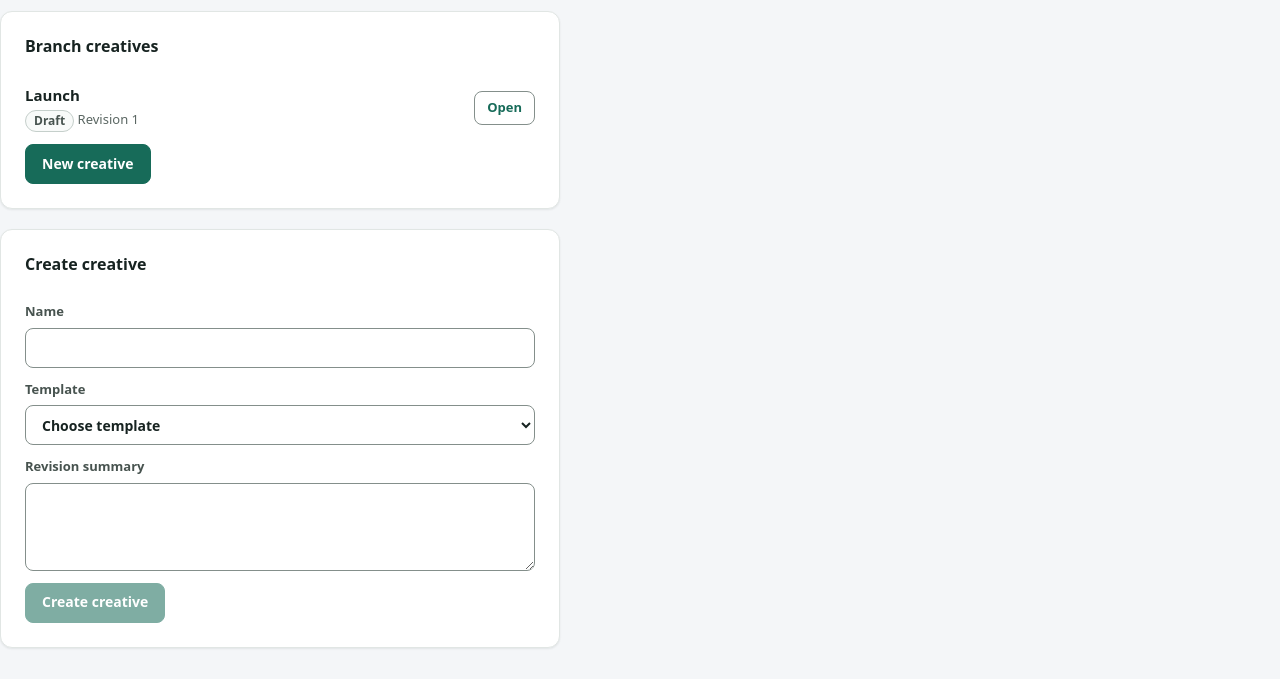
Test: CreativeWorkspace › saves edits as a new revision and exposes prior values read-only
This screenshot has width=1280, height=679.
Click the button "Open" at [505, 108], box left=474, top=91, right=535, bottom=125
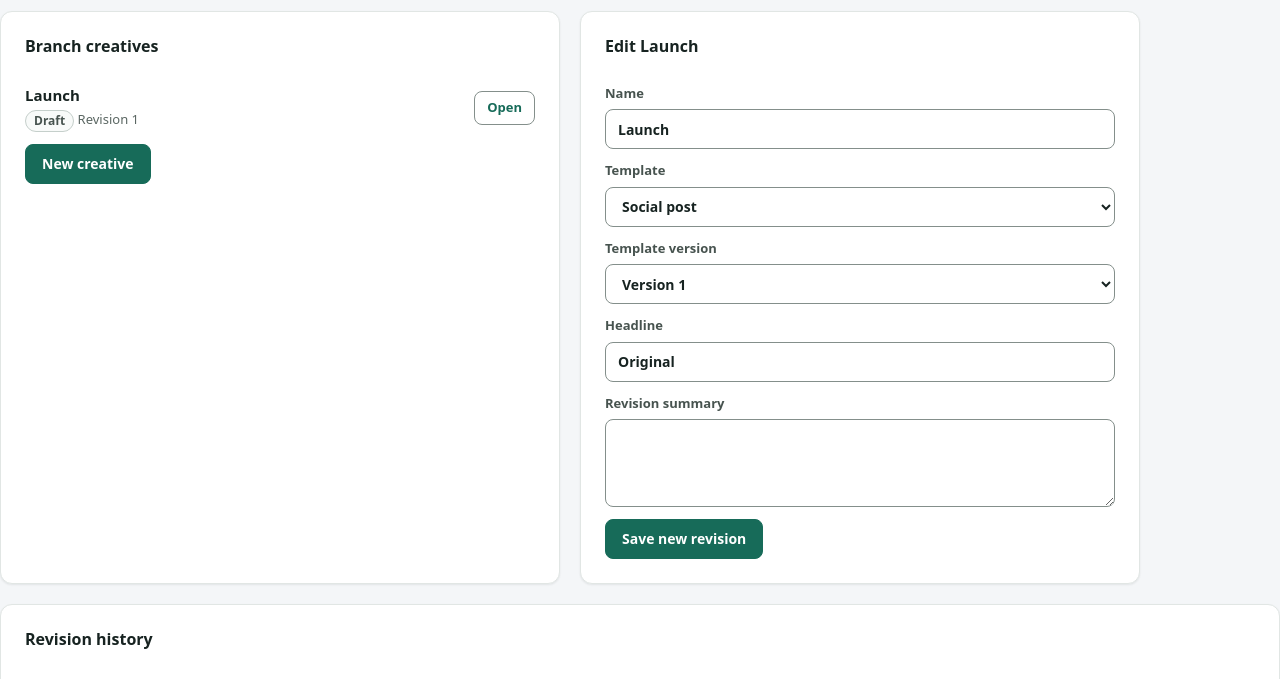
Replace the text in the field labelled "Headline" with "Revised" at [860, 362], box left=605, top=342, right=1115, bottom=382
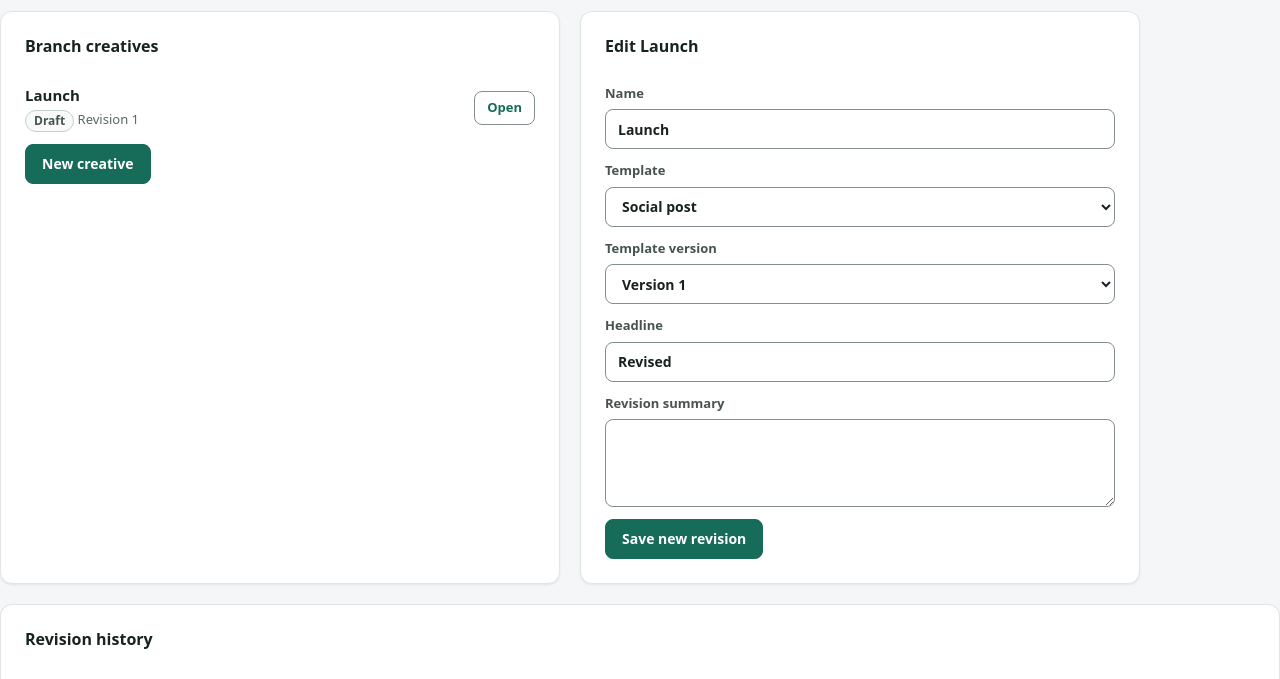
Click the button "Save new revision" at [684, 539], box left=605, top=519, right=763, bottom=559
(page scrolled)
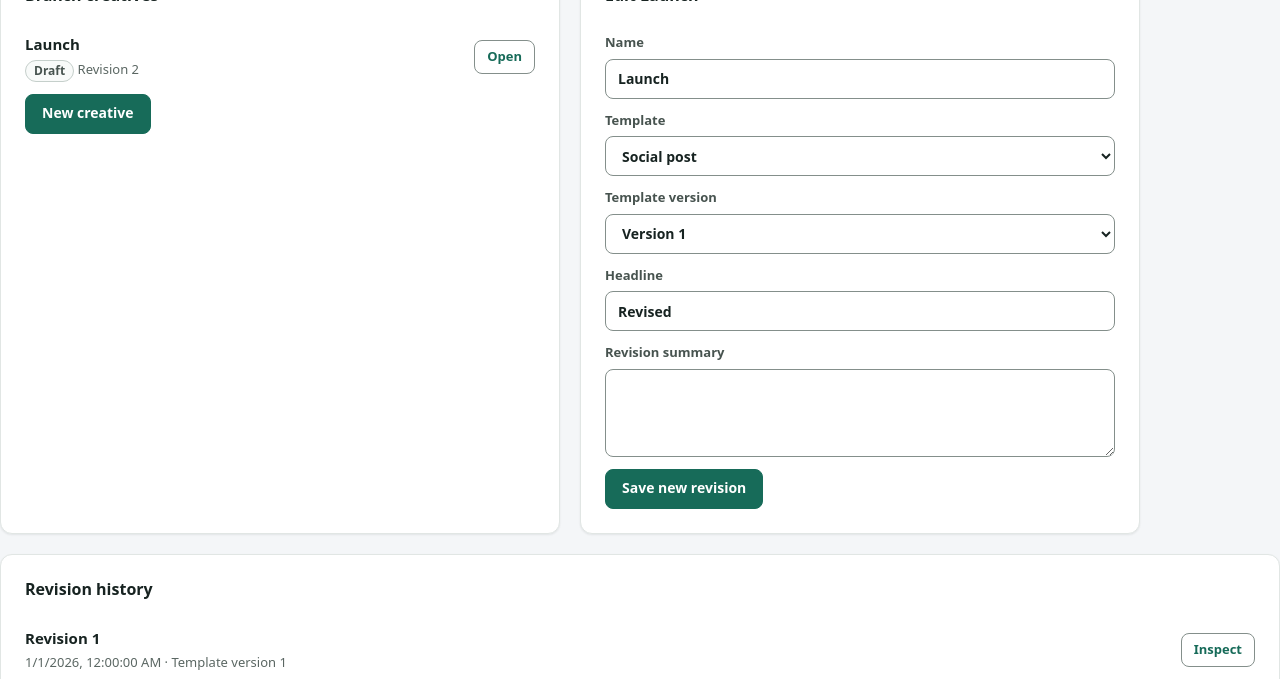
Click the button "Inspect" at [1218, 650], box left=1181, top=632, right=1255, bottom=666
(page scrolled)
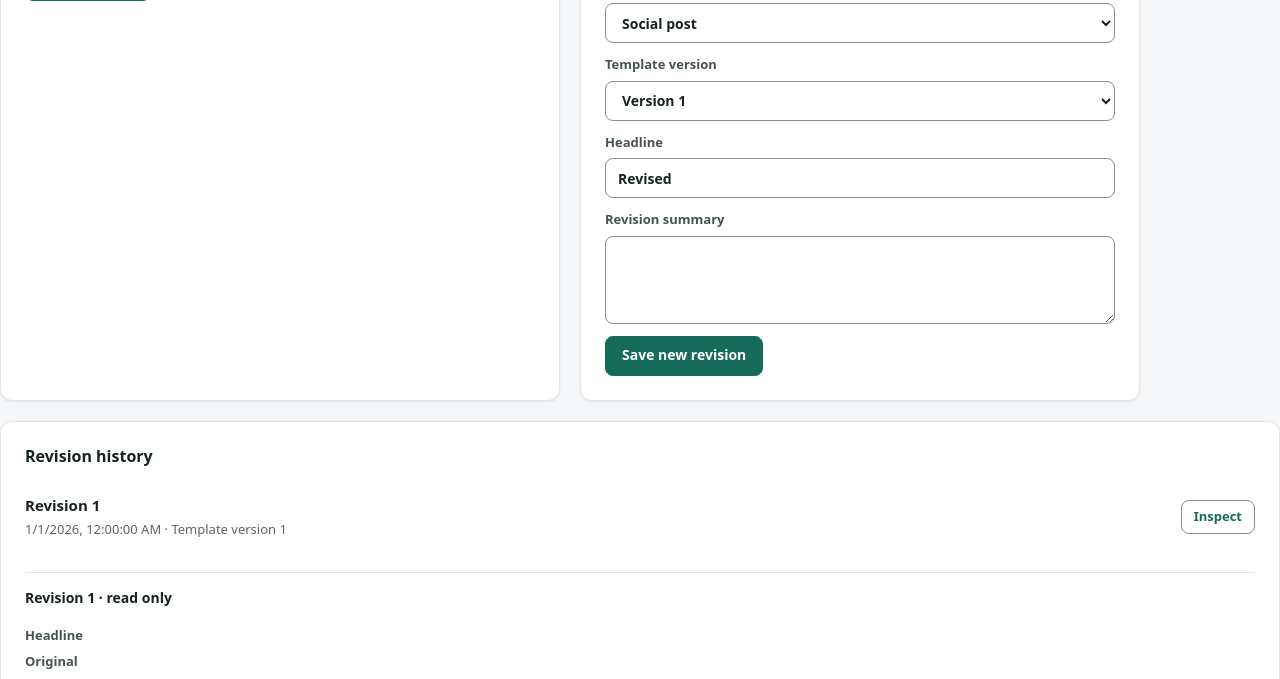
expect the heading "Revision 1 · read only" is shown: met, box left=25, top=588, right=172, bottom=606
expect the text "Original" is shown: met, box left=25, top=652, right=78, bottom=670
